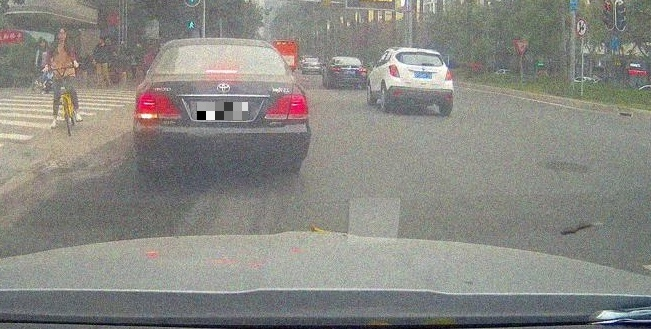L_light: (136, 93, 182, 119), (389, 64, 400, 77), (332, 67, 340, 72)
R_light: (264, 94, 309, 120), (444, 68, 452, 81), (359, 68, 367, 71)
T_light: (206, 68, 238, 74), (415, 52, 426, 55), (343, 58, 349, 60)
day-brake: (133, 37, 311, 174)
day-no: (388, 48, 454, 115), (332, 57, 367, 89)
plate_1: (197, 102, 248, 120)
